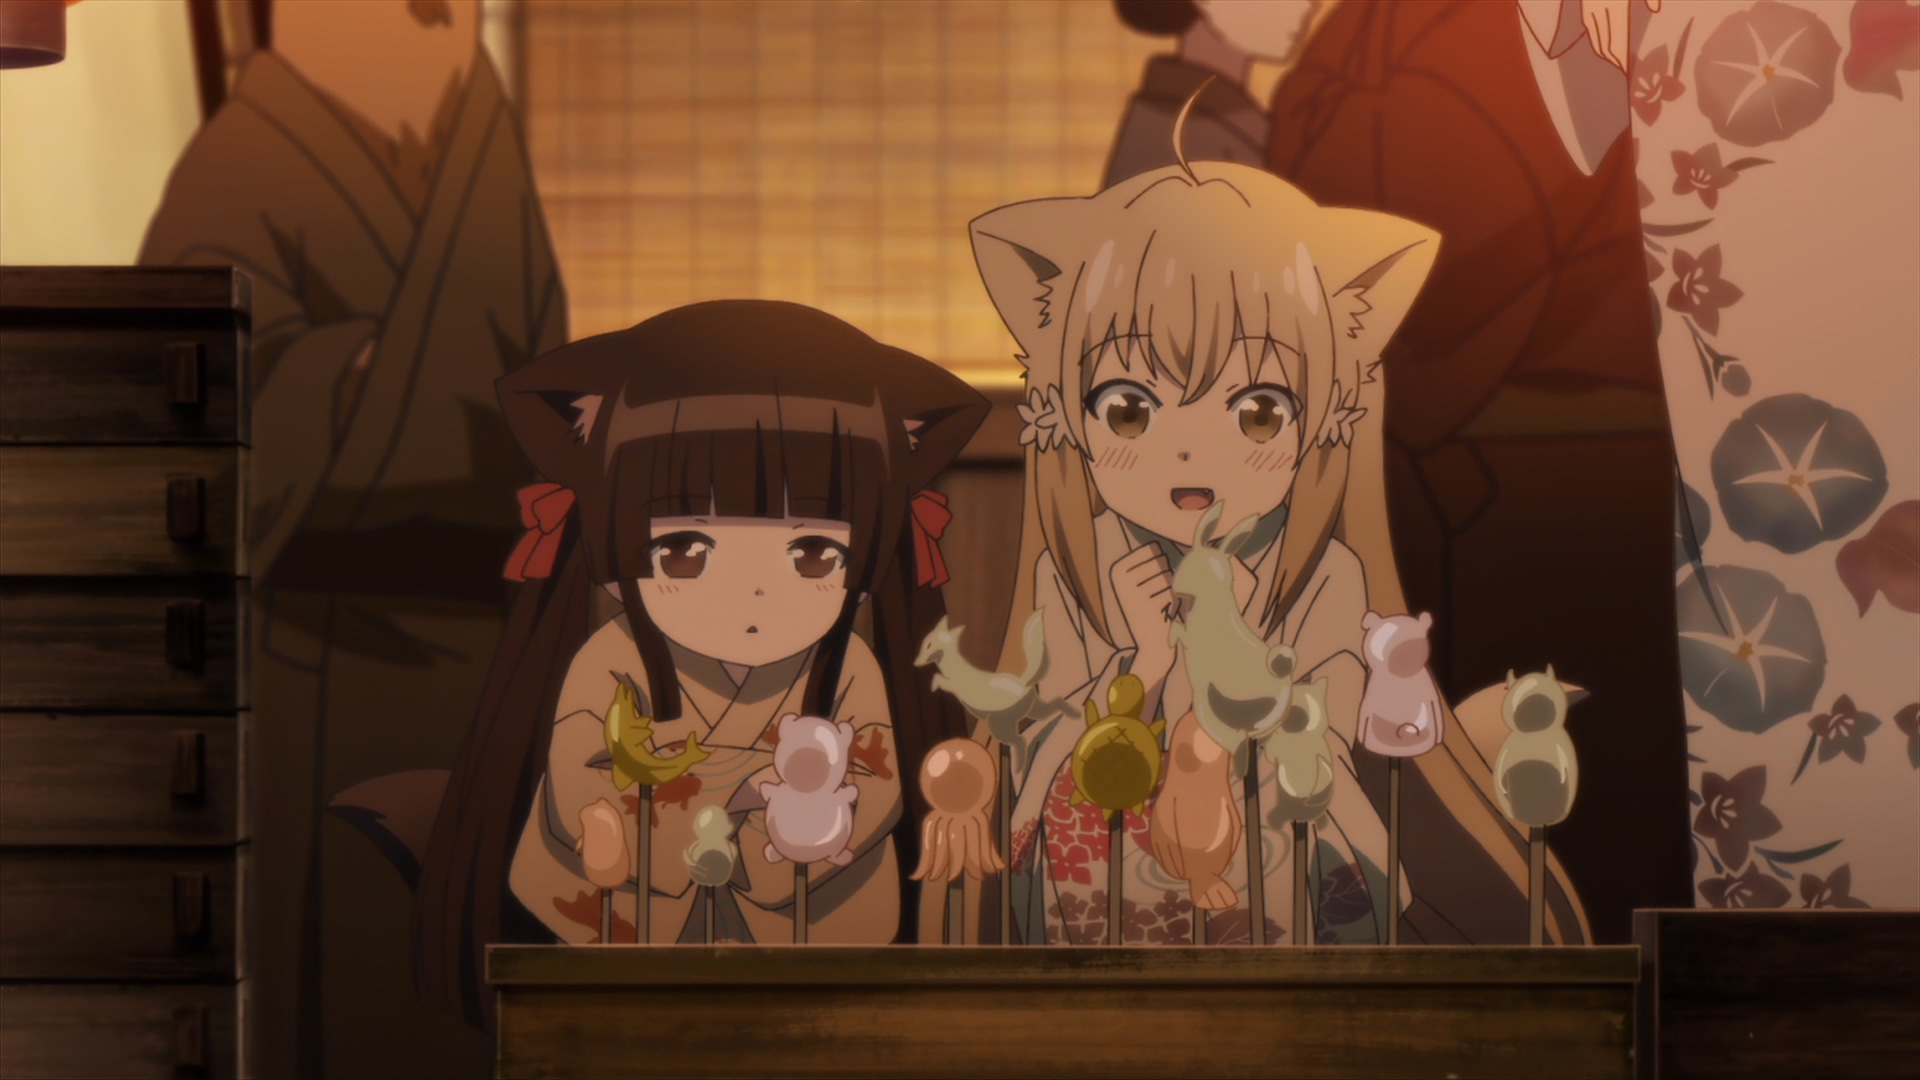其他: (133, 1, 570, 1080), (1263, 1, 1692, 945), (1516, 1, 1920, 909), (1098, 1, 1315, 193)
柚: (968, 79, 1588, 942)
樱: (500, 299, 988, 940)
